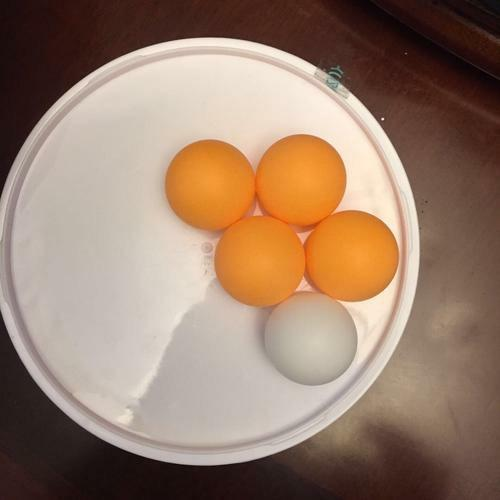ball: (261, 288, 361, 387), (302, 207, 400, 305), (252, 129, 348, 229), (161, 136, 257, 234), (211, 212, 308, 308)
